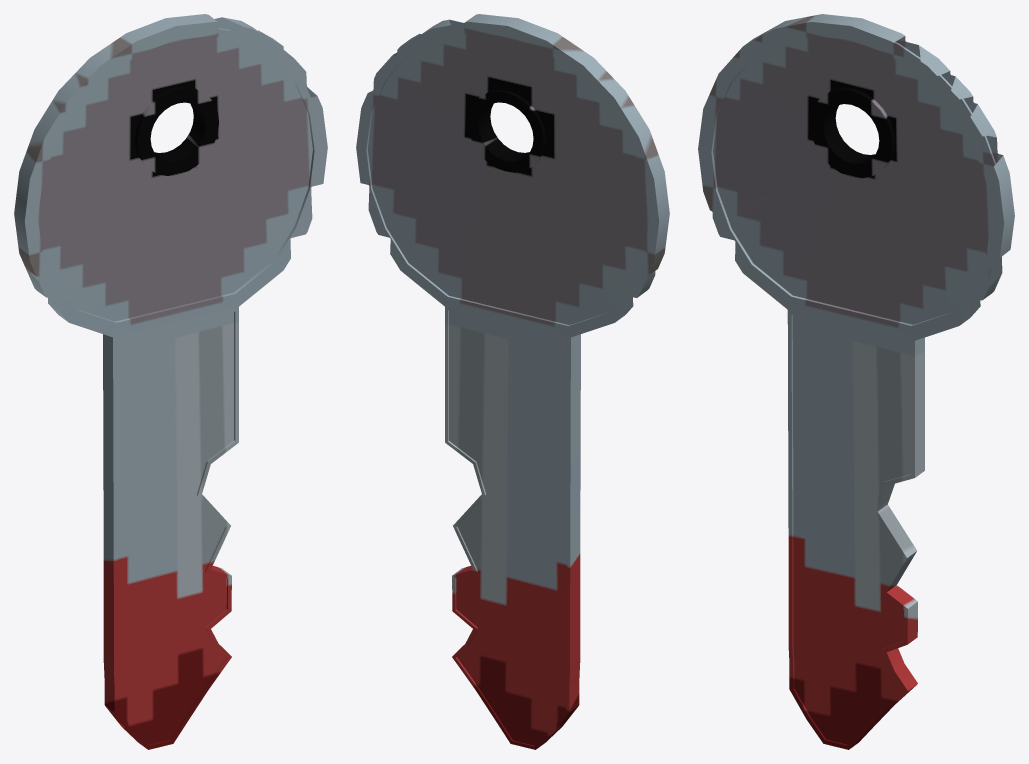
File: anahtar_pixel.fbx
3 renders of one model, left to right at view 1: azimuth 30°, elevation 25°; view 2: azimuth 150°, elevation 25°; view 3: azimuth 330°, elevation 25°, orthographic.
Parts seen in each view (by area): view 1: anahtar_pixel; view 2: anahtar_pixel; view 3: anahtar_pixel.
Boxes of the visible parts, box(x1,y1,x2,y2) form: anahtar_pixel: box(14, 14, 327, 749); anahtar_pixel: box(356, 14, 669, 749); anahtar_pixel: box(698, 14, 1014, 749).
Bounding box in the file's own units: 200 × 452 × 13.91.
